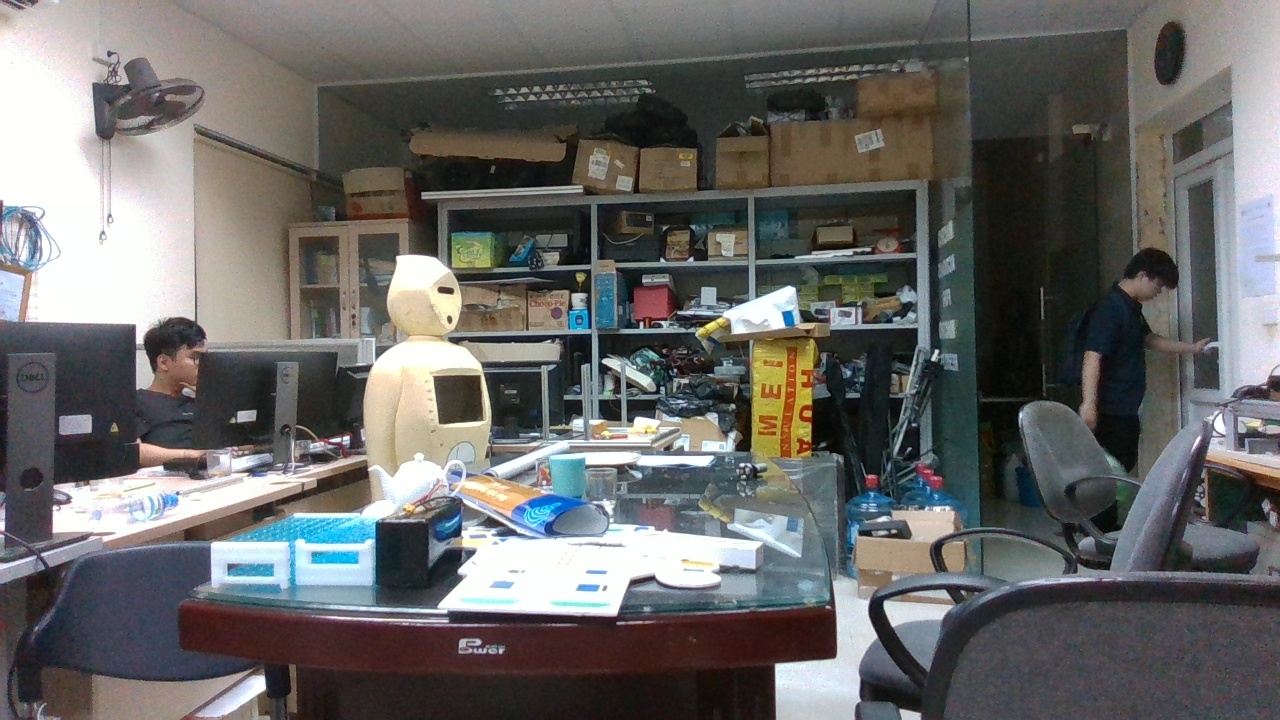person: (352, 249, 499, 482), (1077, 246, 1193, 461), (94, 320, 243, 473)
